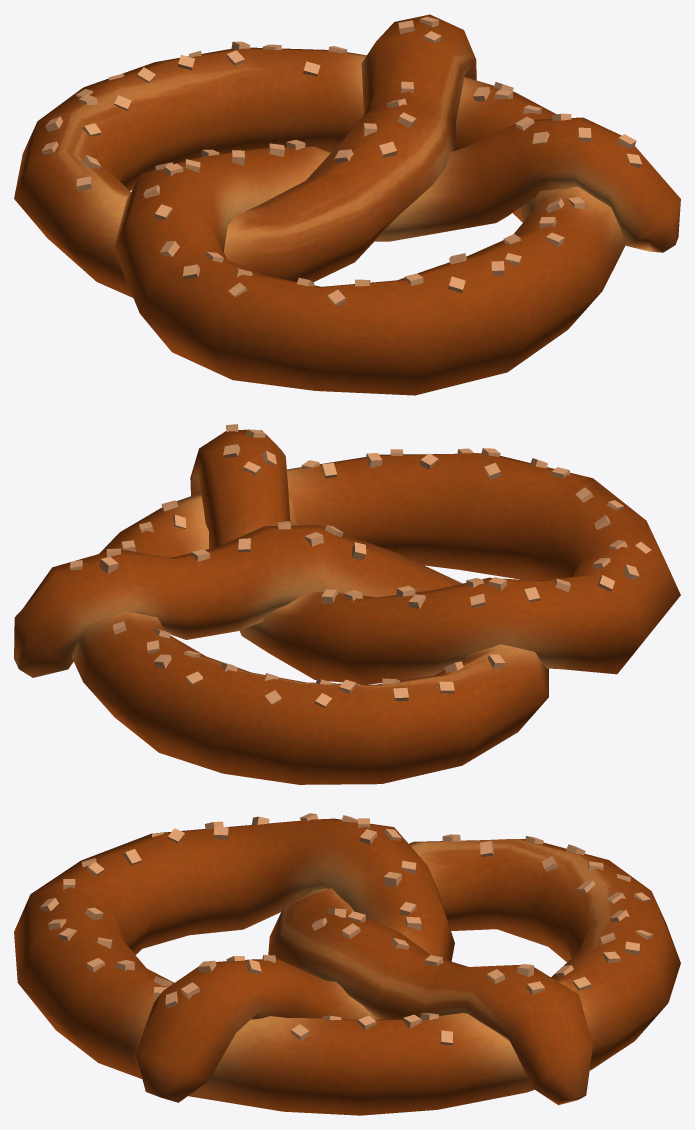
The model's file is pretzell.glb.
3 views of the same model, one above another, from view 1: azimuth 30°, elevation 25°; view 2: azimuth 150°, elevation 25°; view 3: azimuth 270°, elevation 25° (orthographic). The views are drawn at different scales.
Visible parts, largest first — view 1: pretzel_whole; view 2: pretzel_whole; view 3: pretzel_whole.
Part boxes in pixels (bbox=[...]): pretzel_whole: bbox=[14, 14, 680, 395]; pretzel_whole: bbox=[14, 424, 680, 784]; pretzel_whole: bbox=[14, 813, 680, 1115].
Size of the model in its own units: 0.2221 by 0.0665 by 0.2651.
1 material, 1 textured.
